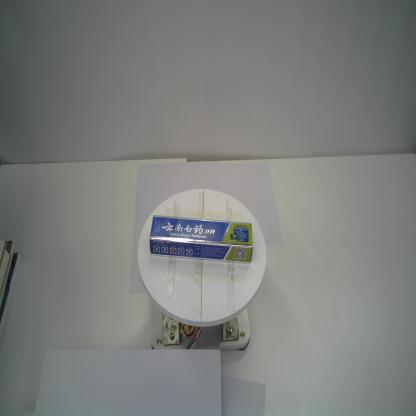Personal Hygiene: (148, 212, 253, 265)
